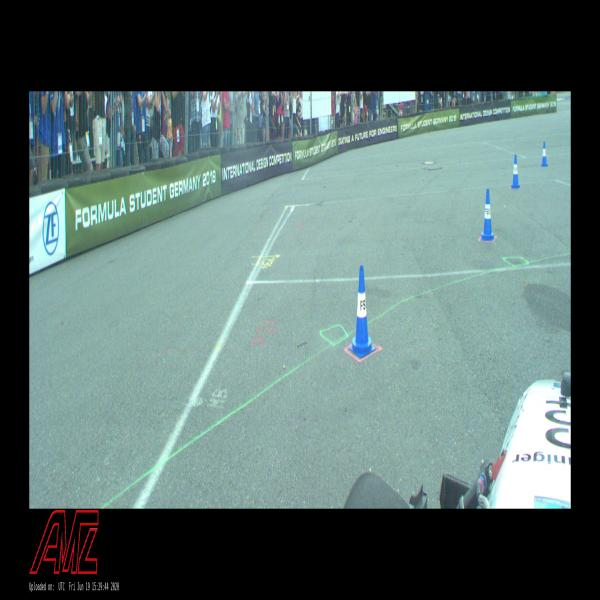blue_cone: (349, 266, 375, 358), (480, 189, 495, 241), (511, 154, 520, 188), (541, 142, 548, 166)
